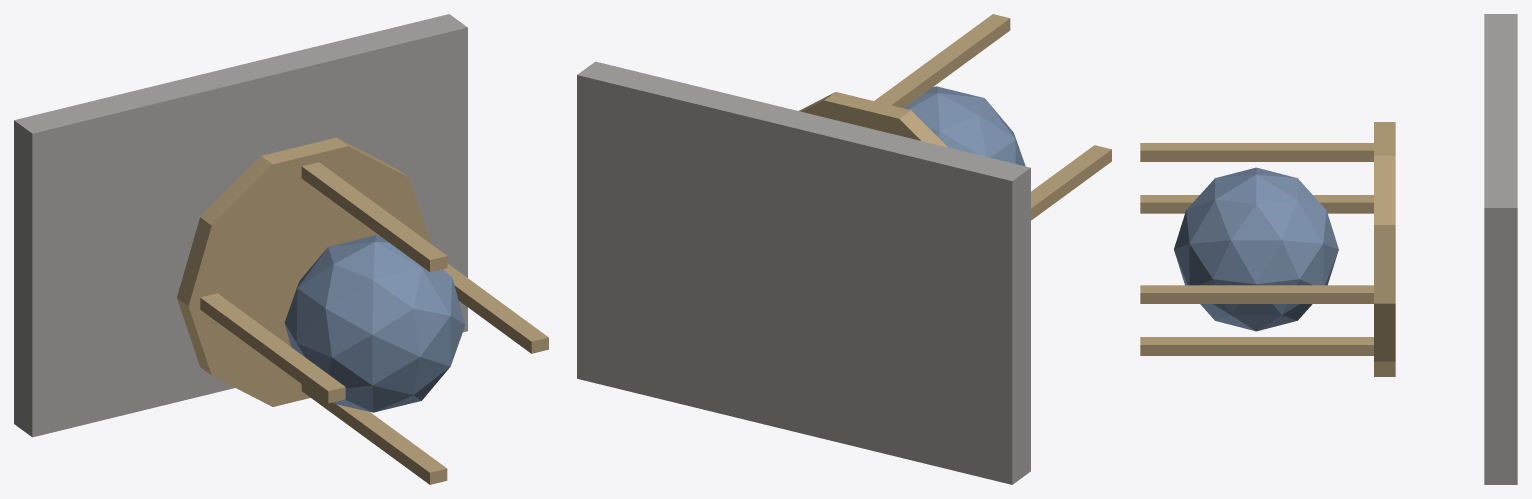
The picture shows the model from 3 angles, left to right: view 1: azimuth 30°, elevation 25°; view 2: azimuth 150°, elevation 25°; view 3: azimuth 270°, elevation 25°; orthographic projection. The views are drawn at different scales.
Parts seen in each view (by area): view 1: H15_part_0, H15_part_1, H15_part_2, H15_part_6, H15_part_3, H15_part_5, H15_part_4; view 2: H15_part_0, H15_part_2, H15_part_6, H15_part_1, H15_part_3; view 3: H15_part_2, H15_part_0, H15_part_1, H15_part_4, H15_part_5, H15_part_6, H15_part_3.
Boxes of the visible parts, box(x1,y1,x2,y2) form: H15_part_0: box(14, 14, 467, 437); H15_part_1: box(177, 137, 431, 406); H15_part_2: box(284, 235, 465, 412); H15_part_6: box(301, 162, 447, 272); H15_part_3: box(200, 293, 345, 403); H15_part_5: box(301, 384, 447, 484); H15_part_4: box(443, 263, 548, 353); H15_part_0: box(577, 61, 1030, 484); H15_part_2: box(904, 86, 1025, 166); H15_part_6: box(874, 14, 1010, 108); H15_part_1: box(799, 92, 947, 147); H15_part_3: box(1031, 145, 1111, 220); H15_part_2: box(1174, 167, 1338, 331); H15_part_0: box(1484, 14, 1517, 484); H15_part_1: box(1374, 122, 1395, 376); H15_part_4: box(1140, 285, 1373, 303); H15_part_5: box(1140, 337, 1373, 355); H15_part_6: box(1140, 143, 1373, 161); H15_part_3: box(1140, 195, 1373, 213).
Size of the model in its own units: 1.5 by 1 by 1.24.
